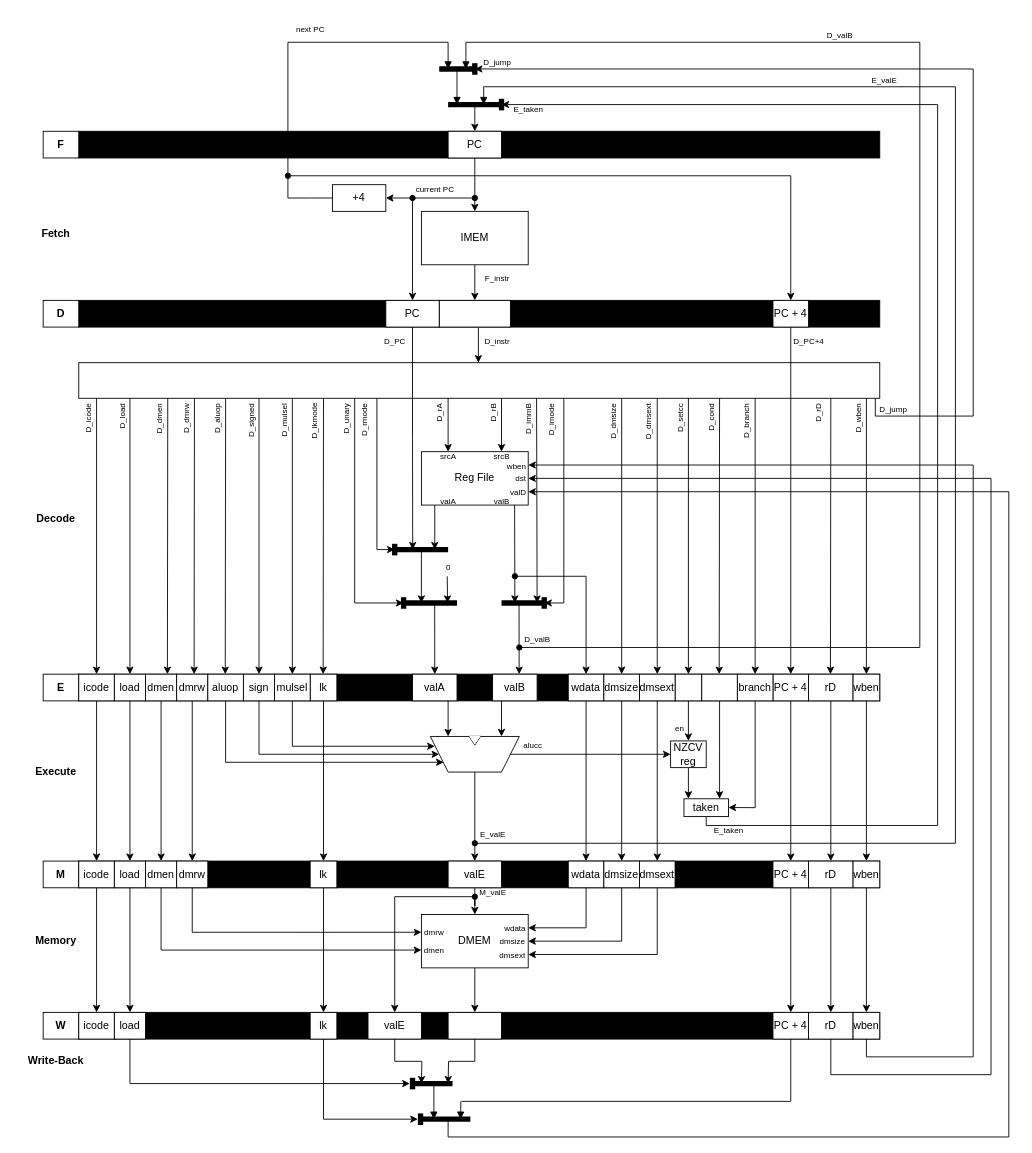
The diagram is 1032 pixels wide and 1153 high, and some of its shapes have lost their labels. Here are the shapes that lost their labels. From the top down, the centre of each, then its label:
At pixel 474 313: "IR".
At pixel 479 380: "Instr Decoder".
At pixel 688 687: "setcc".
At pixel 719 687: "cond".
At pixel 474 754: "ALU".
At pixel 474 1025: "valM".
